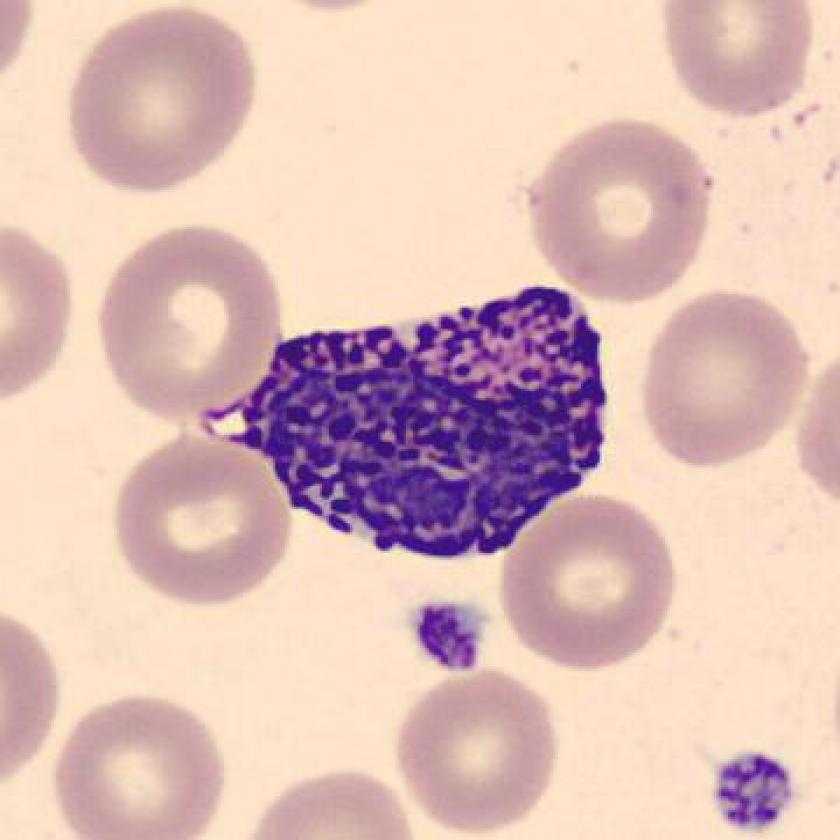basophil: (204, 279, 619, 559)
